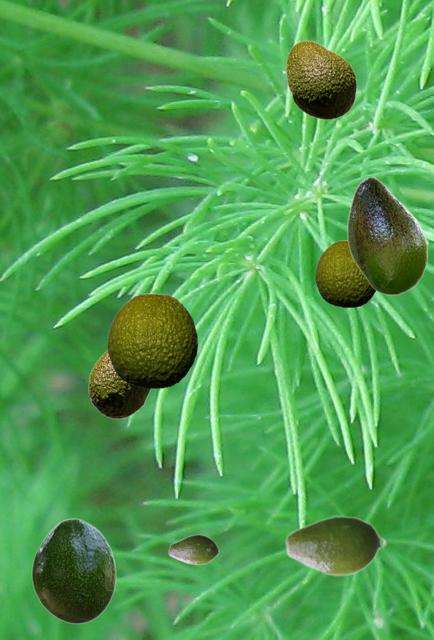avocado: (347, 176, 427, 294), (31, 518, 115, 623), (107, 293, 196, 387), (284, 514, 386, 576), (285, 40, 356, 119), (88, 349, 151, 418), (315, 240, 375, 306), (168, 534, 218, 564)
